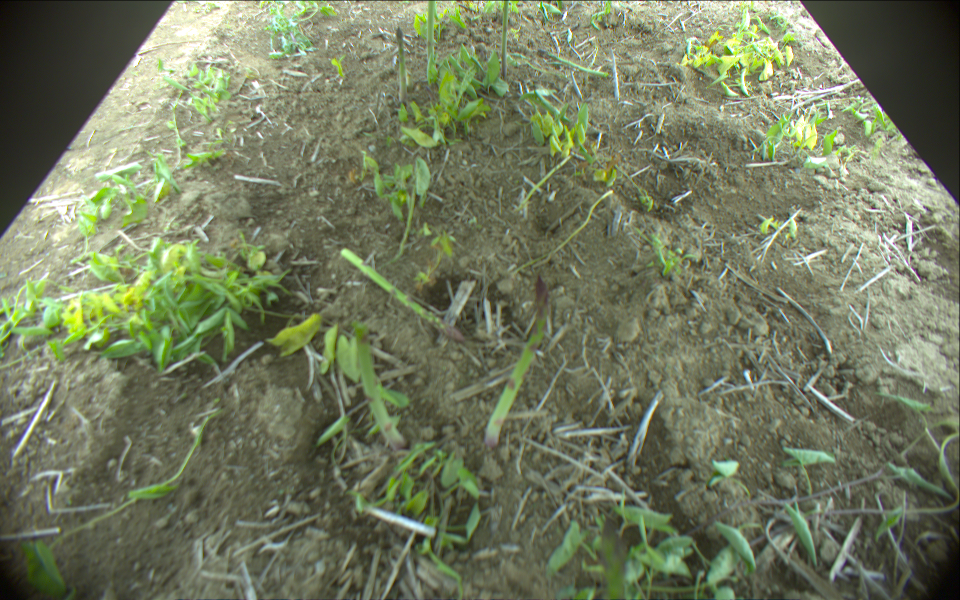aspa: (482, 277, 549, 452), (336, 248, 462, 341), (542, 47, 612, 77), (392, 26, 408, 103), (427, 1, 440, 82), (497, 1, 507, 82)
